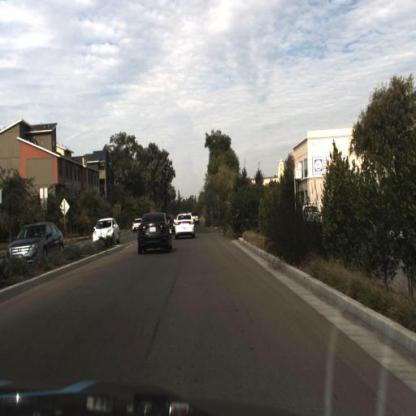car: (1, 215, 67, 268), (131, 204, 174, 263), (89, 208, 121, 253), (171, 205, 202, 248), (89, 215, 122, 247), (130, 217, 144, 238), (164, 217, 176, 241)
